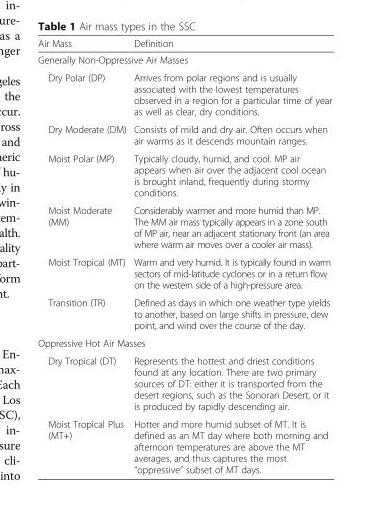table: (37, 37, 331, 474)
table column: (129, 37, 331, 474), (37, 37, 129, 474)
table column header: (37, 37, 331, 51)
table projected row header: (37, 333, 331, 351), (37, 51, 331, 68)
table row: (37, 351, 331, 414), (37, 414, 331, 474), (37, 68, 331, 120), (37, 149, 331, 201), (37, 201, 331, 252), (37, 252, 331, 293), (37, 293, 331, 333), (37, 120, 331, 149), (37, 333, 331, 351), (37, 51, 331, 68), (37, 37, 331, 51)
